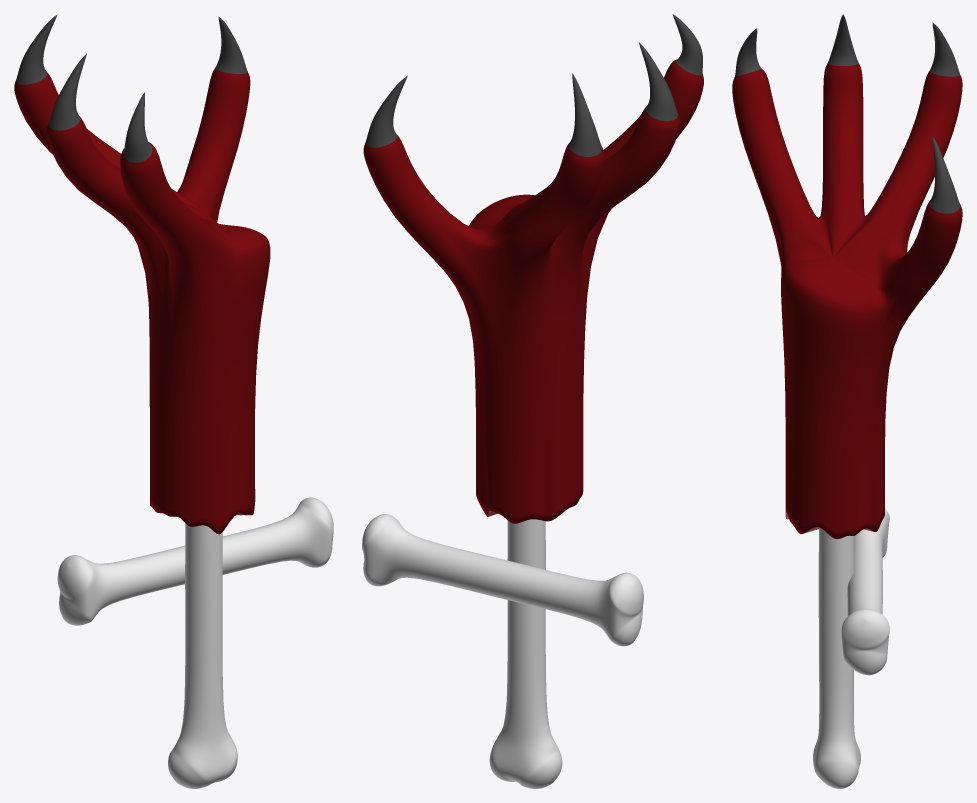
File: Demonhandweapon.fbx
3 views of the same model, side by side, from view 1: azimuth 30°, elevation 25°; view 2: azimuth 150°, elevation 25°; view 3: azimuth 270°, elevation 25° (orthographic). The views are drawn at different scales.
Parts seen in each view (by area): view 1: Circle; view 2: Circle; view 3: Circle.
Boxes of the visible parts, left/top/right/bottom form: Circle: left=14, top=14, right=333, bottom=788; Circle: left=362, top=14, right=703, bottom=788; Circle: left=732, top=14, right=962, bottom=788.
Bounding box in the file's own units: 163 × 404 × 118.
